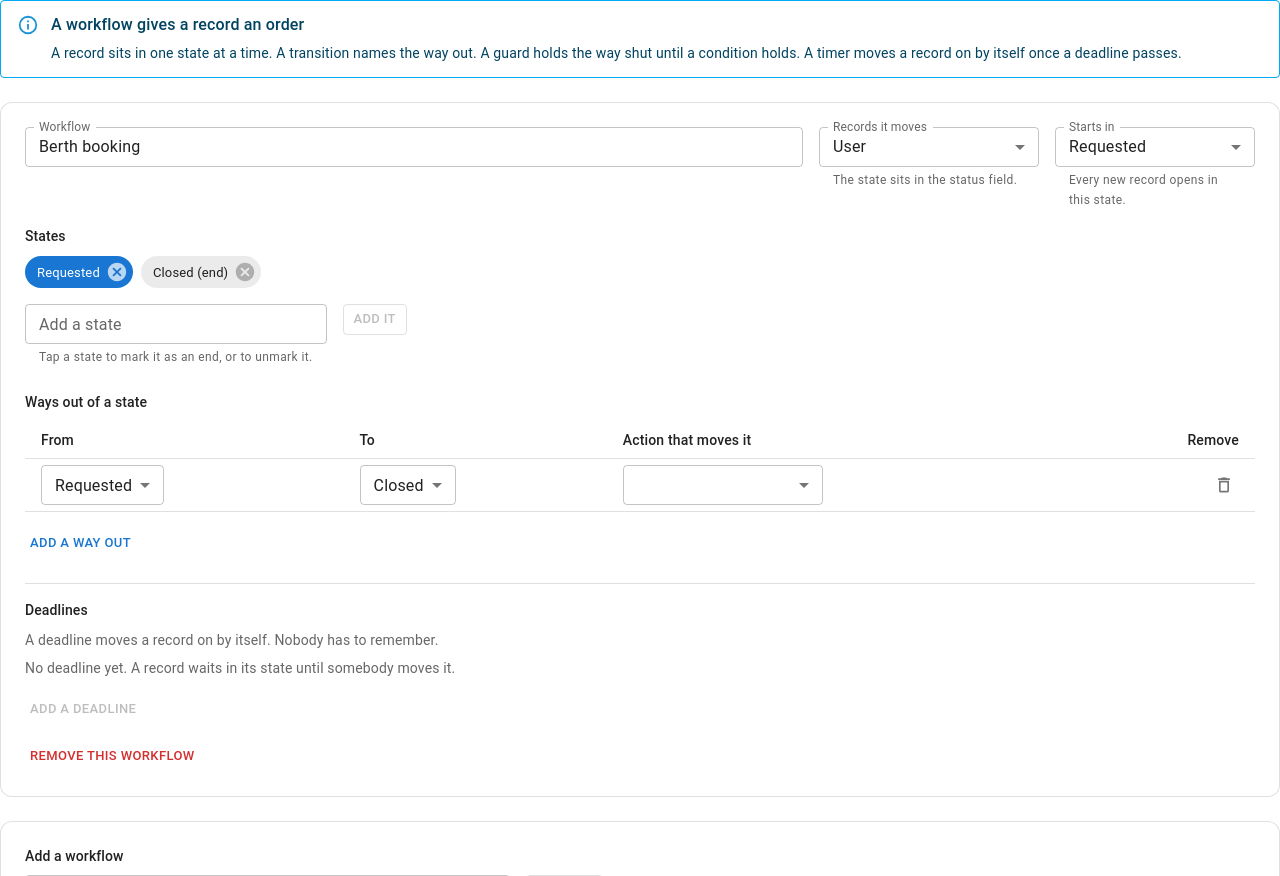
it: the workflow editor over a held workflow › starts records in another state and reports the state nothing reaches
Press the mouse on the dropdown named "Starts in" at (1108,147), box [1069,137,1146,156]
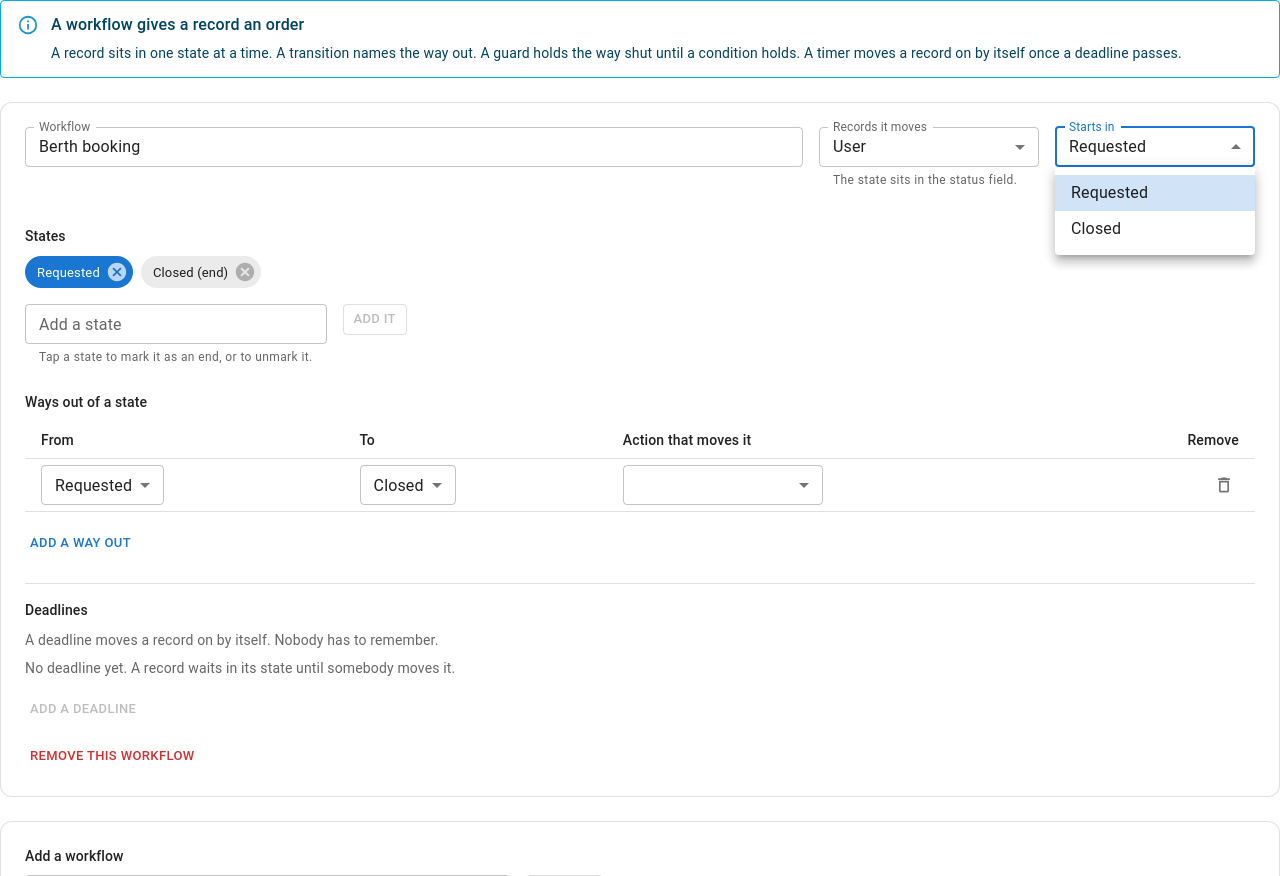
Click the option "Closed" at (1096,228), box [1071,219,1121,238]
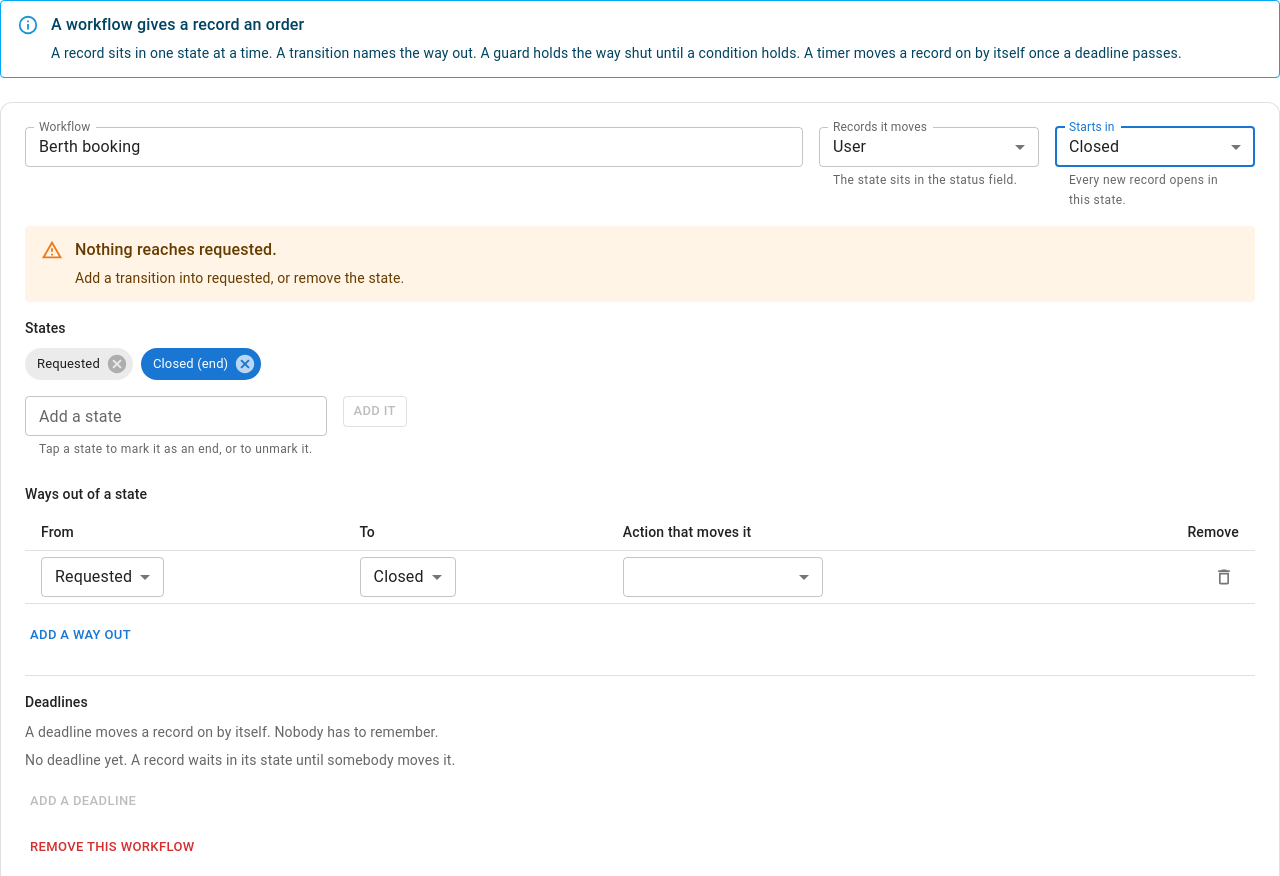
Expected: the list is gone
Expected: the text "Nothing reaches requested." is shown, [75,240,277,259]
Expected: the text "Add a transition into requested, or remove the state." is shown, [75,270,404,286]
